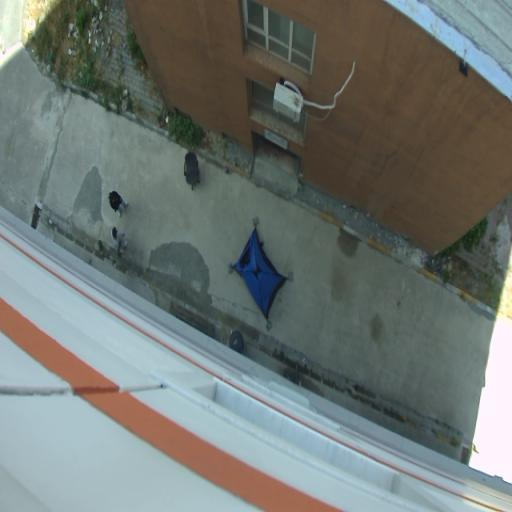tent: (224, 210, 303, 335)
